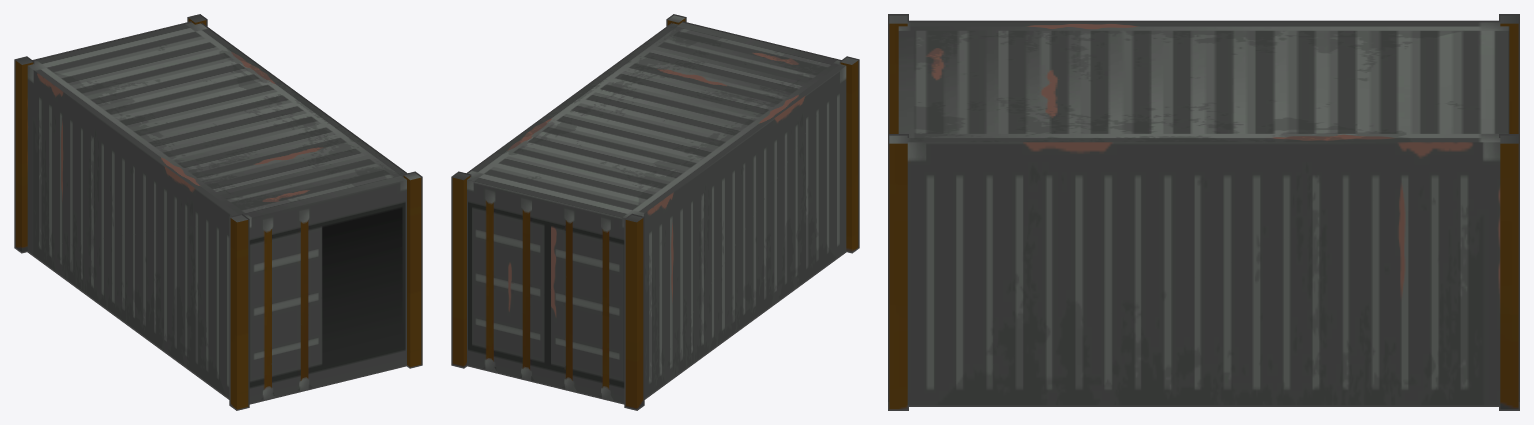
Rendered from Building_AncientMediumContainer__B.glb.
3 renders of one model, left to right at view 1: azimuth 30°, elevation 25°; view 2: azimuth 150°, elevation 25°; view 3: azimuth 270°, elevation 25°, orthographic. The views are drawn at different scales.
Visible parts, largest first — view 1: AncientMediumContainer, Outline; view 2: AncientMediumContainer, Outline; view 3: AncientMediumContainer, Outline.
Part boxes in pixels (bbox=[...]): AncientMediumContainer: bbox=[15, 15, 421, 409]; Outline: bbox=[14, 14, 422, 410]; AncientMediumContainer: bbox=[452, 15, 858, 409]; Outline: bbox=[451, 14, 859, 410]; AncientMediumContainer: bbox=[889, 15, 1518, 409]; Outline: bbox=[888, 14, 1519, 410].
Size of the model in its own units: 2 by 1.94 by 4.14.
2 materials, 1 textured.
